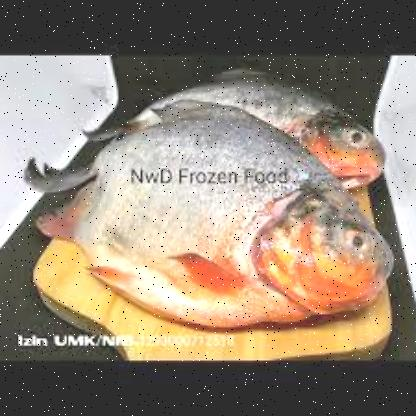ikan-pacu: (68, 111, 396, 323), (162, 74, 382, 178)
